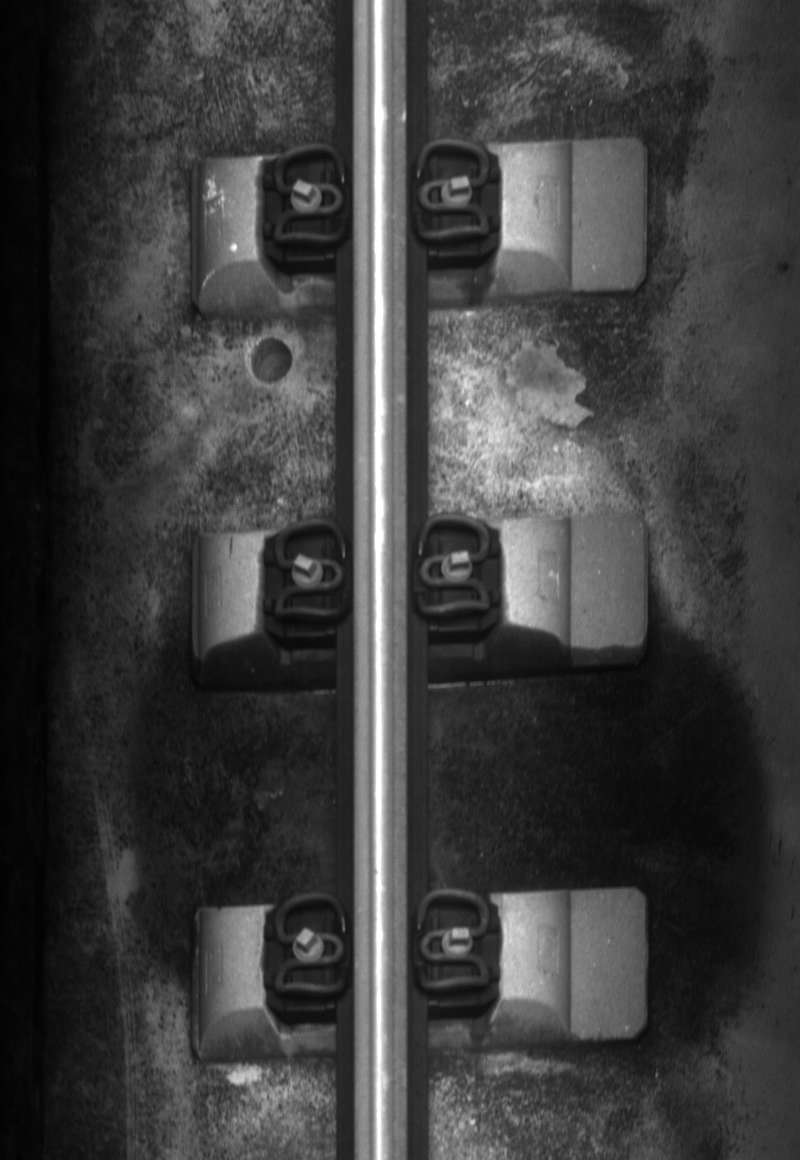l_faster: (265, 136, 351, 254), (268, 514, 352, 632), (270, 885, 351, 1003)
r_faster: (409, 132, 494, 250), (410, 881, 491, 995), (412, 511, 495, 621)
